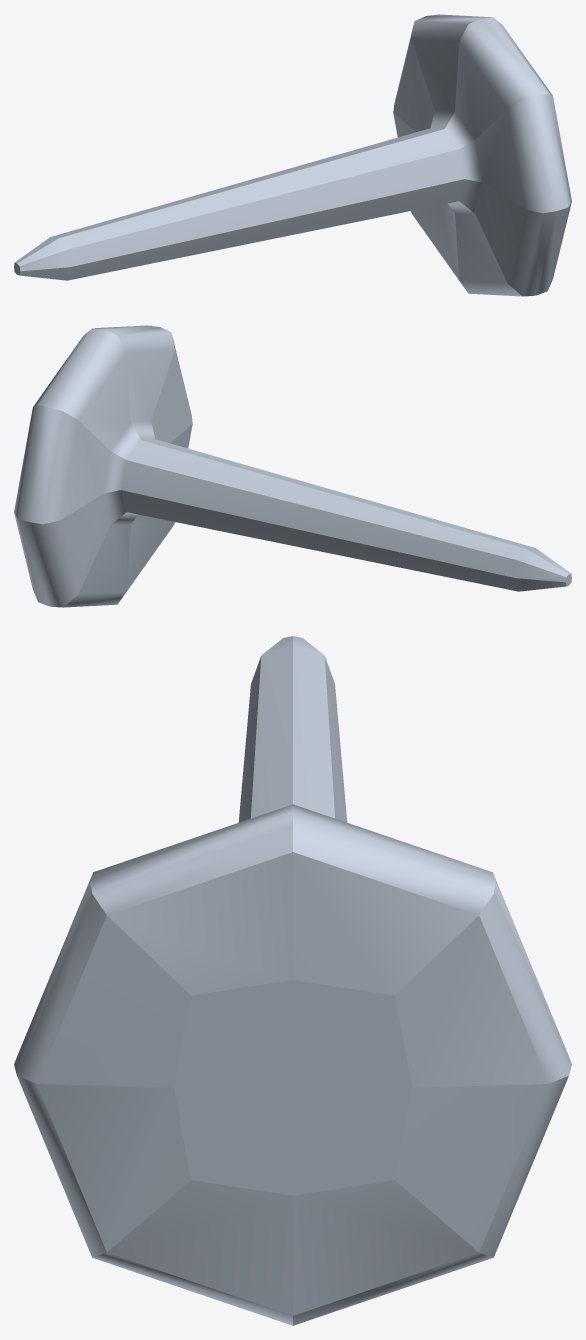
Rendered from nail.fbx.
3 views of the same model, one above another, from view 1: azimuth 30°, elevation 25°; view 2: azimuth 150°, elevation 25°; view 3: azimuth 270°, elevation 25° (orthographic). The views are drawn at different scales.
Visible parts, largest first — view 1: MeshTransformExportRoot; view 2: MeshTransformExportRoot; view 3: MeshTransformExportRoot.
Part boxes in pixels (left/top/right/bottom): MeshTransformExportRoot: left=14, top=14, right=571, bottom=296; MeshTransformExportRoot: left=14, top=325, right=571, bottom=607; MeshTransformExportRoot: left=14, top=636, right=571, bottom=1325.
Size of the model in its own units: 24.03 by 12.84 by 12.84.
